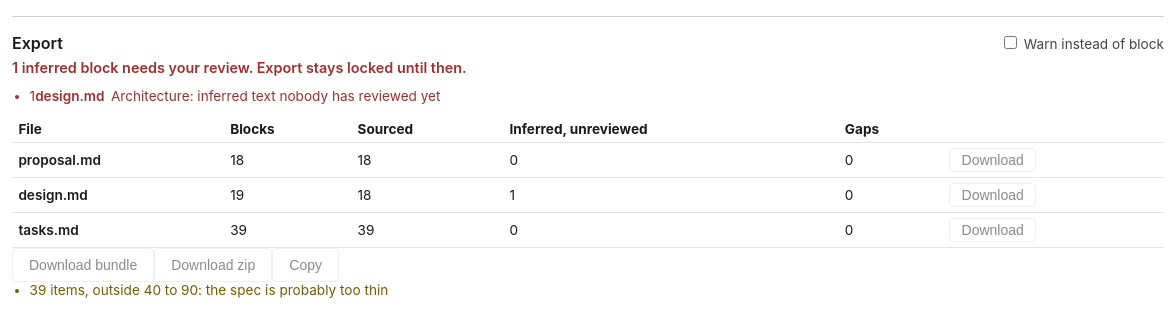
Test: ExportGateComponent › should export anyway when the warn setting is turned on
Click the checkbox with class "warn-toggle": x=1010, y=42 [1004,36,1017,49]
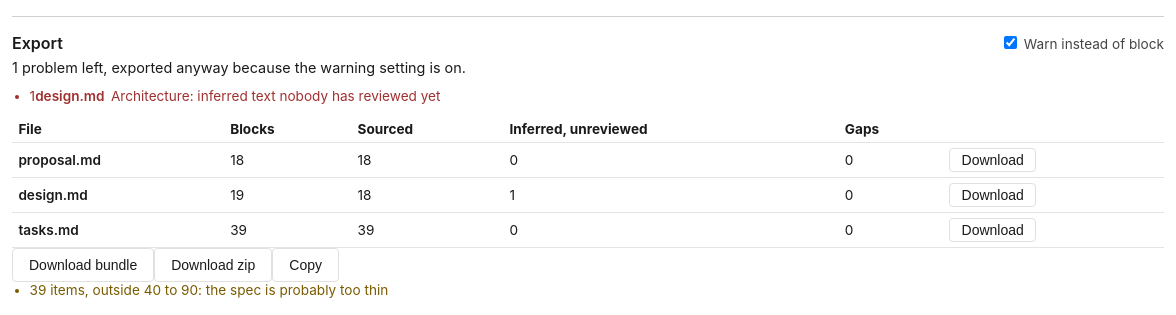
Expected: the number of list items with class "blocking-row" is 1, [30,88,440,104]
Expected: the text with class "gate-verdict" reads "1 problem left, exported anyway because the warning setting is on.", [12,59,466,76]
